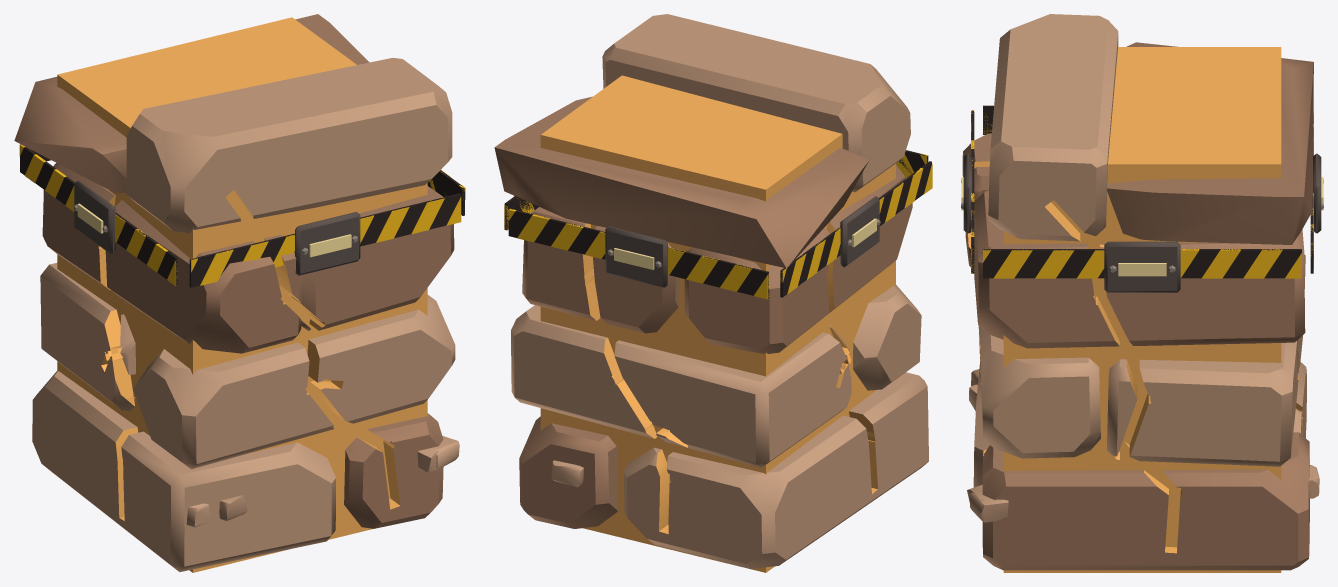
File: breakable__upper.glb
3 renders of one model, left to right at view 1: azimuth 30°, elevation 25°; view 2: azimuth 150°, elevation 25°; view 3: azimuth 270°, elevation 25°, orthographic. The views are drawn at different scales.
Visible parts, largest first — view 1: breakable; view 2: breakable; view 3: breakable.
Part boxes in pixels (<box>): breakable: <box>14,14,465,572</box>; breakable: <box>494,14,932,572</box>; breakable: <box>961,14,1323,572</box>.
Size of the model in its own units: 1.05 by 1.39 by 1.05.
